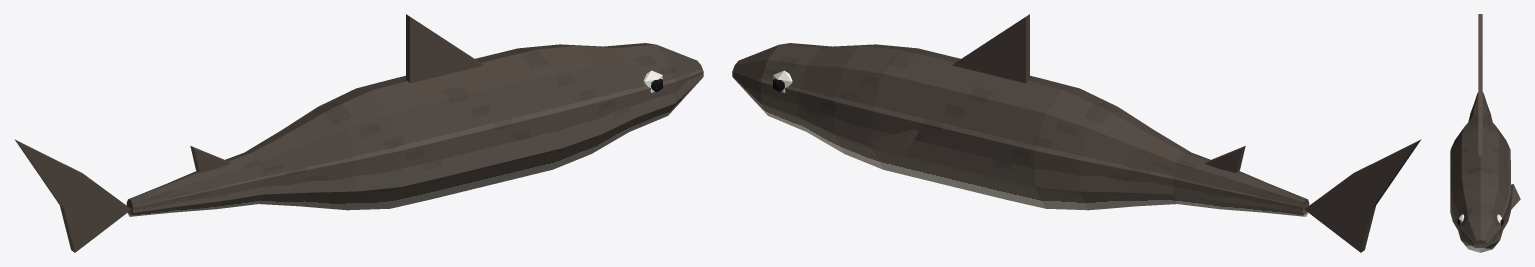
The model's file is bluntnose_sixgill_shark.glb.
3 renders of one model, left to right at view 1: azimuth 30°, elevation 25°; view 2: azimuth 150°, elevation 25°; view 3: azimuth 270°, elevation 25°, orthographic. The views are drawn at different scales.
Parts seen in each view (by area): view 1: fish_bluntnose_sixgill_shark; view 2: fish_bluntnose_sixgill_shark; view 3: fish_bluntnose_sixgill_shark.
Boxes of the visible parts, x1=… form: fish_bluntnose_sixgill_shark: x1=14, y1=14, x2=703, y2=252; fish_bluntnose_sixgill_shark: x1=732, y1=14, x2=1421, y2=252; fish_bluntnose_sixgill_shark: x1=1450, y1=14, x2=1520, y2=252.
Size of the model in its own units: 1.2 by 0.31 by 0.1993.
Materials: 4 (1 with a texture image).
